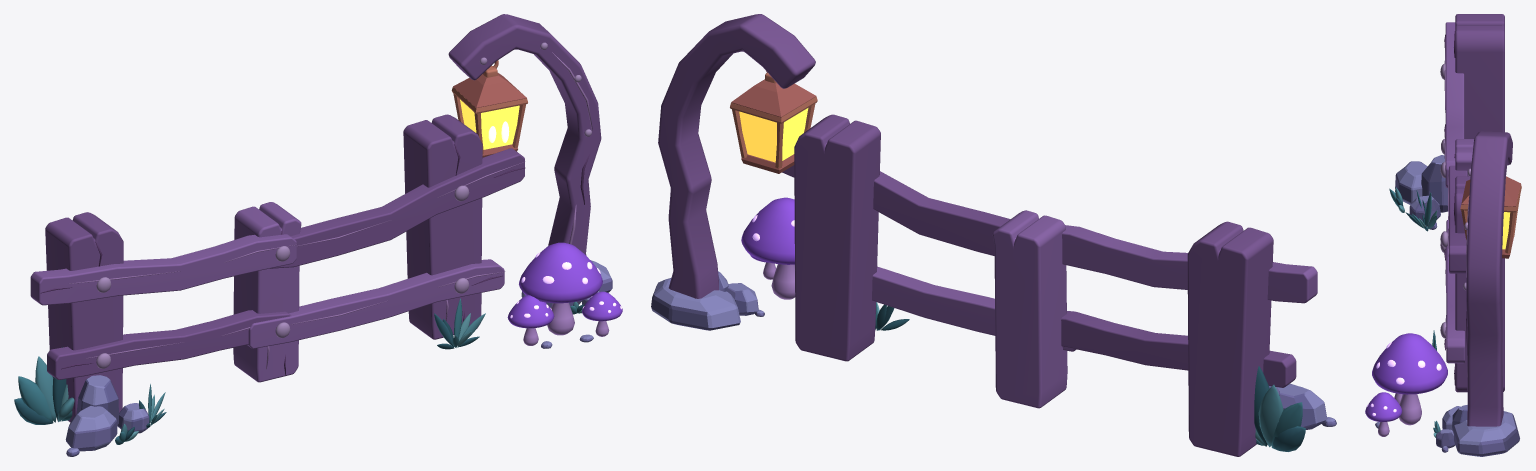
Rendered from fence_set_lantern.glb.
3 views of the same model, side by side, from view 1: azimuth 30°, elevation 25°; view 2: azimuth 150°, elevation 25°; view 3: azimuth 270°, elevation 25° (orthographic). The views are drawn at different scales.
Parts seen in each view (by area): view 1: Hewn_Post_3.002, Crooked_Hewn_Purple_Post.001, Upper_Rail_Left.002, Upper_Rail_Right.002, Hewn_Post_1.002, Lower_Rail_Right.002, Hewn_Post_2.002, Lower_Rail_Left.002, Tall_Mushroom_Violet_Cap.001, Front_Faceted_Boulder.003, Lantern_Pitched_Roof.001, Lantern_Glass_Core.001 (+7 smaller); view 2: Hewn_Post_3.002, Hewn_Post_1.002, Crooked_Hewn_Purple_Post.001, Hewn_Post_2.002, Upper_Rail_Left.002, Lower_Rail_Left.002, Upper_Rail_Right.002, Lower_Rail_Right.002, Lantern_Foundation.001, Tall_Mushroom_Violet_Cap.001, Lantern_Glass_Core.001, Lantern_Pitched_Roof.001 (+4 smaller); view 3: Crooked_Hewn_Purple_Post.001, Hewn_Post_1.002, Tall_Mushroom_Violet_Cap.001, Upper_Rail_Left.002, Hewn_Post_3.002, Lantern_Foundation.001, Lower_Rail_Right.002, Upper_Rail_Right.002, Rear_Standing_Slate.003, Front_Faceted_Boulder.003, Right_Mushroom_Violet_Cap.001, Tall_Mushroom_Plump_Stem.001 (+9 smaller).
Boxes of the visible parts, x1,y1,x2,y2 form: Hewn_Post_3.002: [403, 114, 482, 339]; Crooked_Hewn_Purple_Post.001: [448, 14, 601, 255]; Upper_Rail_Left.002: [30, 234, 296, 305]; Upper_Rail_Right.002: [270, 148, 524, 268]; Hewn_Post_1.002: [45, 212, 123, 422]; Lower_Rail_Right.002: [247, 259, 504, 348]; Hewn_Post_2.002: [233, 202, 301, 382]; Lower_Rail_Left.002: [47, 310, 291, 379]; Tall_Mushroom_Violet_Cap.001: [519, 242, 602, 303]; Front_Faceted_Boulder.003: [65, 405, 117, 451]; Lantern_Pitched_Roof.001: [453, 73, 526, 108]; Lantern_Glass_Core.001: [460, 99, 519, 149]; Hewn_Post_3.002: [794, 114, 880, 361]; Hewn_Post_1.002: [1187, 221, 1273, 456]; Crooked_Hewn_Purple_Post.001: [658, 14, 815, 298]; Hewn_Post_2.002: [992, 210, 1067, 408]; Upper_Rail_Left.002: [1062, 225, 1317, 303]; Lower_Rail_Left.002: [1061, 311, 1296, 387]; Upper_Rail_Right.002: [782, 165, 1010, 255]; Lower_Rail_Right.002: [872, 266, 1076, 351]; Lantern_Foundation.001: [651, 278, 740, 330]; Tall_Mushroom_Violet_Cap.001: [741, 197, 794, 264]; Lantern_Glass_Core.001: [739, 108, 808, 162]; Lantern_Pitched_Roof.001: [731, 79, 816, 117]; Crooked_Hewn_Purple_Post.001: [1466, 131, 1512, 426]; Hewn_Post_1.002: [1455, 14, 1504, 138]; Tall_Mushroom_Violet_Cap.001: [1372, 333, 1447, 394]; Upper_Rail_Left.002: [1445, 22, 1464, 187]; Hewn_Post_3.002: [1455, 176, 1504, 392]; Lantern_Foundation.001: [1452, 411, 1519, 456]; Lower_Rail_Right.002: [1446, 219, 1465, 363]; Upper_Rail_Right.002: [1449, 165, 1467, 273]; Rear_Standing_Slate.003: [1421, 155, 1448, 212]; Front_Faceted_Boulder.003: [1395, 161, 1427, 204]; Right_Mushroom_Violet_Cap.001: [1365, 392, 1402, 421]; Tall_Mushroom_Plump_Stem.001: [1399, 394, 1421, 425].
Size of the model in its own units: 6.29 by 2.89 by 1.47.
